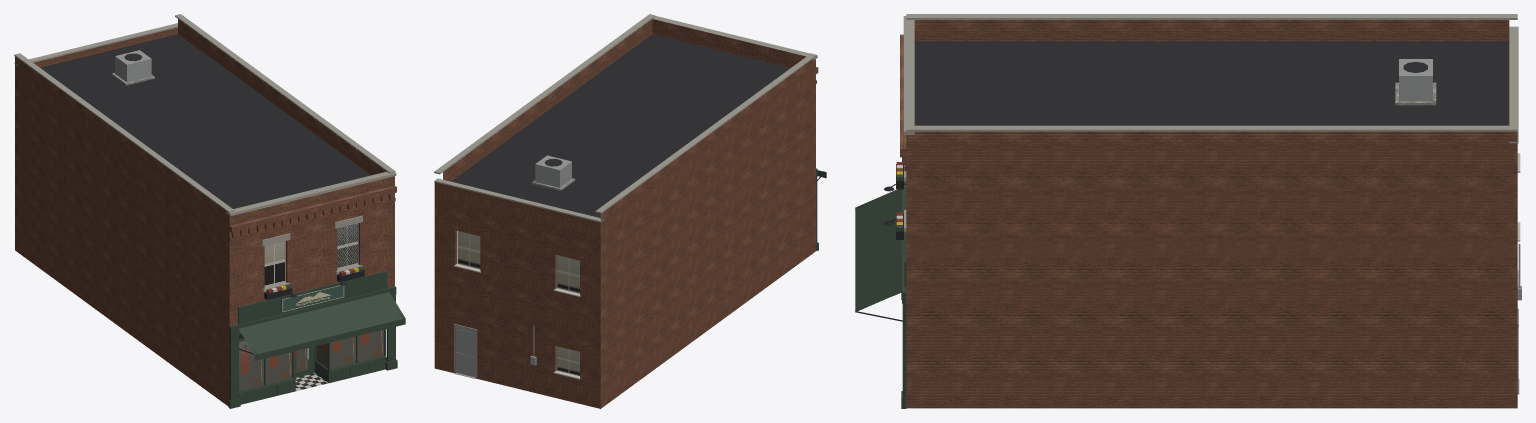
The model's file is town_shop_a 2.gltf.
The picture shows the model from 3 angles, left to right: view 1: azimuth 30°, elevation 25°; view 2: azimuth 150°, elevation 25°; view 3: azimuth 270°, elevation 25°; orthographic projection. The views are drawn at different scales.
Visible parts, largest first — view 1: TownShopA_Walls, TownShopA_RoofDeck, TownShopA_Awning, TownShopA_Window, TownShopA_Coping, TownShopA_ParapetIn, TownShopA_Cornice, TownShopA_Iron, TownShopA_SignBand, TownShopA_Bulkheads, TownShopA_HVAC, TownShopA_Sign (+4 smaller); view 2: TownShopA_Walls, TownShopA_RoofDeck, TownShopA_ParapetIn, TownShopA_Coping, TownShopA_Window, TownShopA_HVAC, TownShopA_ClosedDoor, TownShopA_Trim; view 3: TownShopA_Walls, TownShopA_RoofDeck, TownShopA_ParapetIn, TownShopA_Coping, TownShopA_Awning, TownShopA_HVAC, TownShopA_Iron, TownShopA_Cornice.
Boxes of the visible parts, x1,y1,x2,y2 form: TownShopA_Walls: (15,56,394,406); TownShopA_RoofDeck: (40,34,370,208); TownShopA_Awning: (238,292,405,360); TownShopA_Window: (239,223,384,390); TownShopA_Coping: (14,14,396,216); TownShopA_ParapetIn: (33,19,386,175); TownShopA_Cornice: (229,185,396,241); TownShopA_Iron: (228,286,397,408); TownShopA_SignBand: (238,271,387,324); TownShopA_Bulkheads: (239,356,386,404); TownShopA_HVAC: (111,50,154,85); TownShopA_Sign: (282,285,344,312); TownShopA_Walls: (434,58,815,408); TownShopA_RoofDeck: (451,34,790,217); TownShopA_ParapetIn: (443,19,806,181); TownShopA_Coping: (434,14,817,222); TownShopA_Window: (457,231,579,375); TownShopA_HVAC: (532,155,575,190); TownShopA_ClosedDoor: (456,326,475,377); TownShopA_Trim: (454,264,580,379); TownShopA_Walls: (906,131,1517,408); TownShopA_RoofDeck: (914,41,1509,125); TownShopA_ParapetIn: (914,20,1509,41); TownShopA_Coping: (903,14,1518,143); TownShopA_Awning: (855,189,901,312); TownShopA_HVAC: (1395,59,1436,105); TownShopA_Iron: (901,181,906,408); TownShopA_Cornice: (900,34,906,171).
Size of what is drawn, in the model's own units: 8.1 by 9.21 by 19.62.
2 materials, 2 textured.
